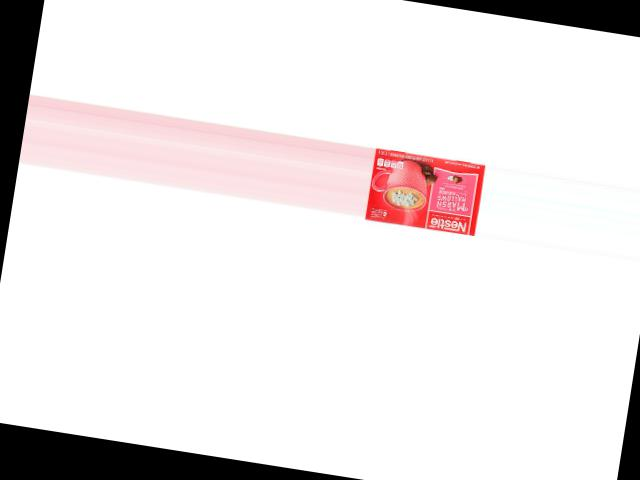chocolate: (364, 143, 483, 233)
